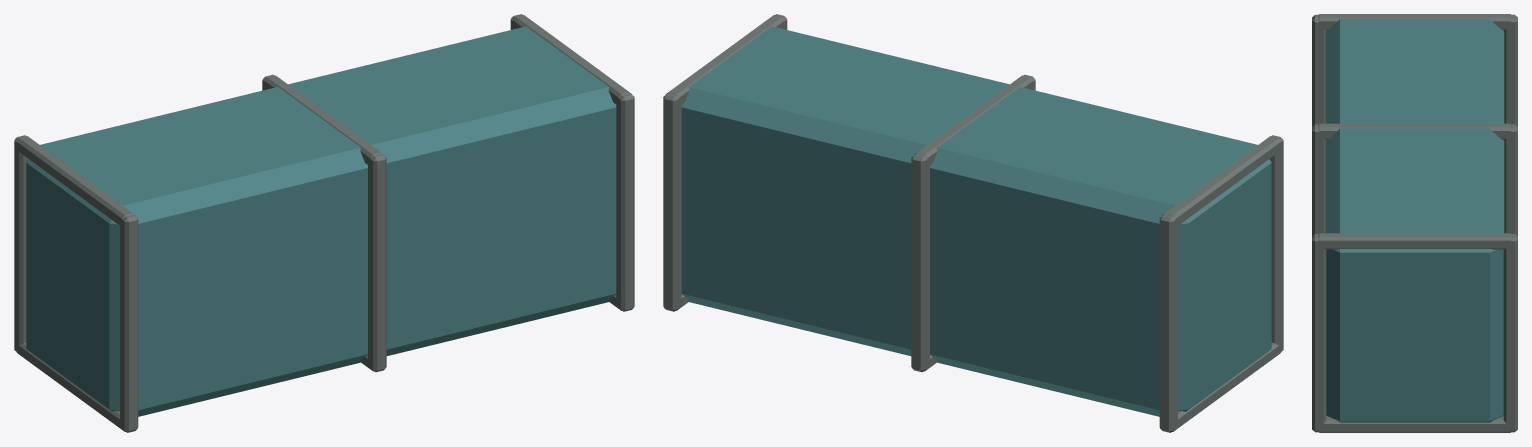
Rendered from overhead-duct.glb.
3 renders of one model, left to right at view 1: azimuth 30°, elevation 25°; view 2: azimuth 150°, elevation 25°; view 3: azimuth 270°, elevation 25°, orthographic. The views are drawn at different scales.
Parts seen in each view (by area): view 1: overhead-duct__overhead-duct__petrol, overhead-duct__overhead-duct__hardware; view 2: overhead-duct__overhead-duct__petrol, overhead-duct__overhead-duct__hardware; view 3: overhead-duct__overhead-duct__petrol, overhead-duct__overhead-duct__hardware.
Part boxes in pixels (x1,y1,x2,y2): overhead-duct__overhead-duct__petrol: [26, 26, 616, 416]; overhead-duct__overhead-duct__hardware: [14, 14, 634, 432]; overhead-duct__overhead-duct__petrol: [681, 26, 1271, 416]; overhead-duct__overhead-duct__hardware: [663, 14, 1283, 432]; overhead-duct__overhead-duct__petrol: [1325, 19, 1504, 422]; overhead-duct__overhead-duct__hardware: [1312, 14, 1517, 432].
Bounding box in the file's own units: 3 × 1.21 × 1.15.
